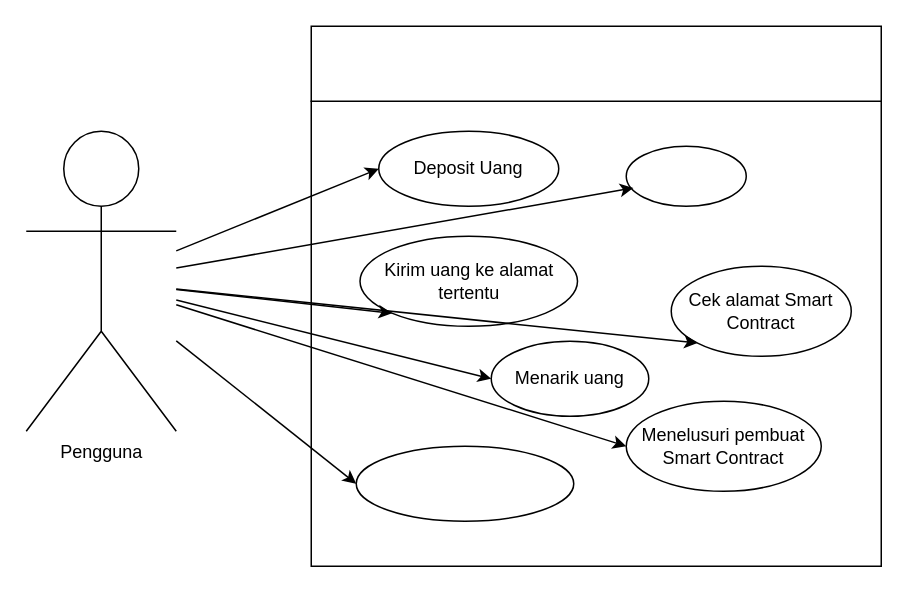
Image size: 908x593. Some labels were removed from this diagram. The box of each missing label's shape, as (x1, y1, x2, y2) in pixels:
Cek uang: (625, 145, 746, 206)
Menarik seluruh uang: (355, 445, 574, 521)
Sistem Ether Wallet: (310, 25, 881, 101)
